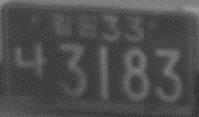1: (91, 45, 117, 99)
3: (154, 47, 184, 104), (58, 42, 89, 97), (123, 15, 145, 42), (101, 15, 120, 41)
8: (122, 46, 150, 101)
강원_O: (52, 13, 99, 39)
나: (13, 42, 47, 77)
